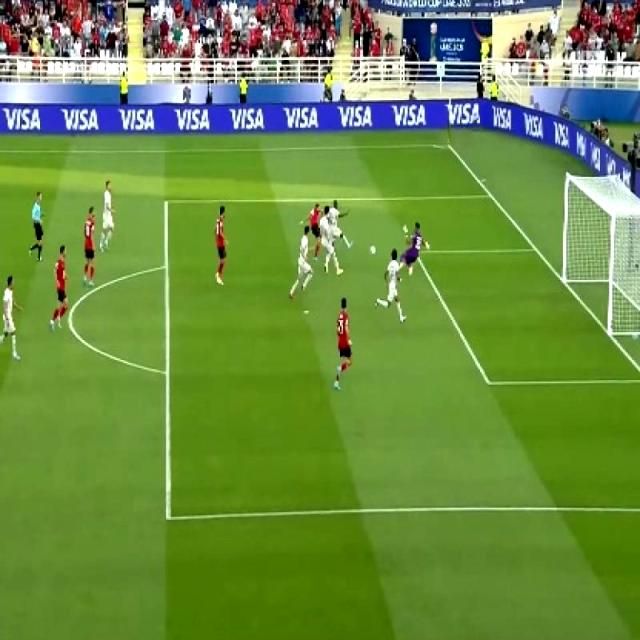bigarea_bottom_inner: (157, 494, 183, 532)
bigarea_top_inner: (161, 194, 171, 208)
bigarea_top_outter: (486, 190, 496, 200)
bottom_arc_area_intersection: (158, 364, 172, 381)
corner: (438, 139, 456, 152)
smallarea_bottom_inner: (478, 365, 497, 397)
smallarea_top_outter: (528, 240, 542, 257)
top_arc_area_intersection: (158, 257, 172, 275)
